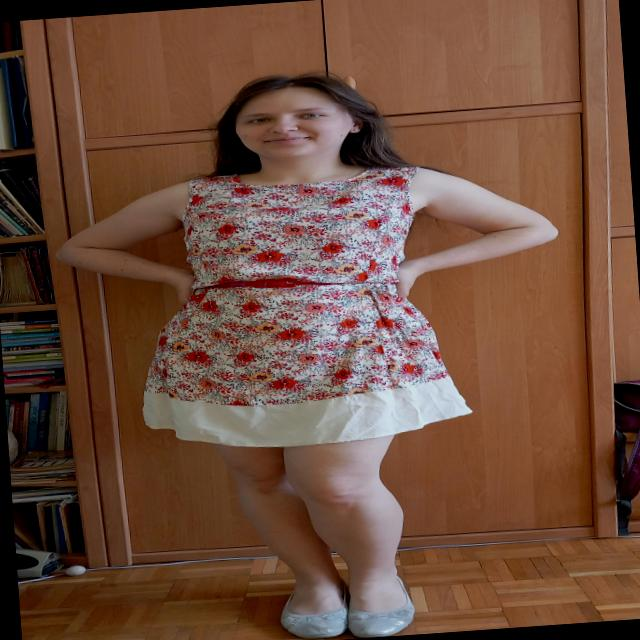dress: (123, 158, 473, 457)
